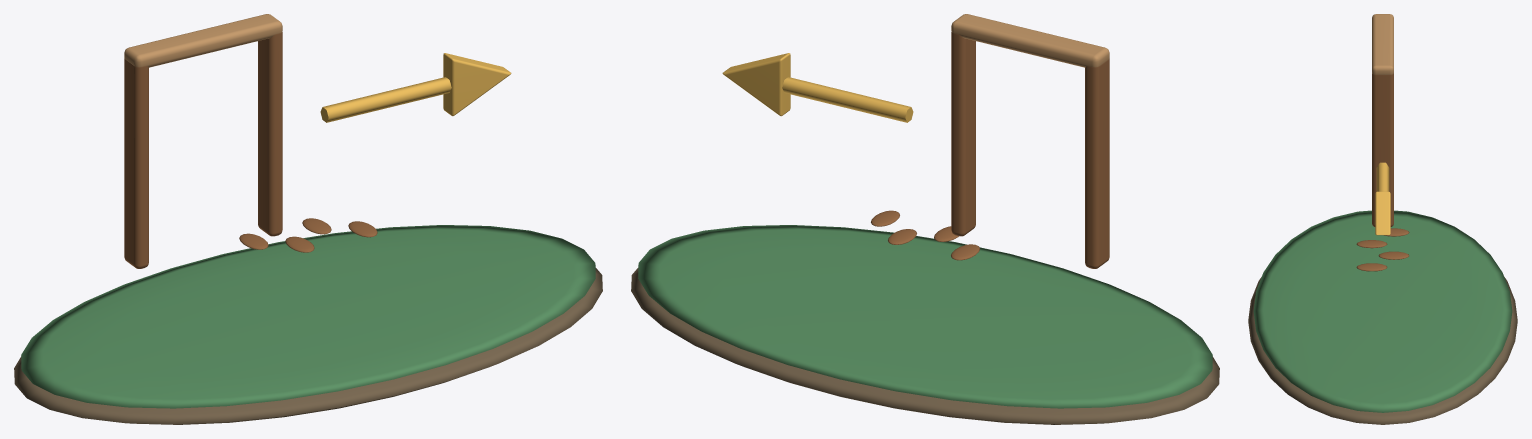
Rendered from complete-second-pass-through.glb.
The picture shows the model from 3 angles, left to right: view 1: azimuth 30°, elevation 25°; view 2: azimuth 150°, elevation 25°; view 3: azimuth 270°, elevation 25°; orthographic projection. The views are drawn at different scales.
Visible parts, largest first — view 1: complete-second-pass-through_surface_01, complete-second-pass-through_surface_02, complete-second-pass-through_surface_00, complete-second-pass-through_surface_04, complete-second-pass-through_surface_03; view 2: complete-second-pass-through_surface_01, complete-second-pass-through_surface_02, complete-second-pass-through_surface_00, complete-second-pass-through_surface_04, complete-second-pass-through_surface_03; view 3: complete-second-pass-through_surface_01, complete-second-pass-through_surface_00, complete-second-pass-through_surface_02, complete-second-pass-through_surface_03, complete-second-pass-through_surface_04.
Boxes of the visible parts, x1,y1,x2,y2 form: complete-second-pass-through_surface_01: (21,225,595,408); complete-second-pass-through_surface_02: (124,31,377,268); complete-second-pass-through_surface_00: (14,268,602,424); complete-second-pass-through_surface_04: (320,53,511,122); complete-second-pass-through_surface_03: (124,14,282,67); complete-second-pass-through_surface_01: (638,225,1212,408); complete-second-pass-through_surface_02: (871,31,1109,268); complete-second-pass-through_surface_00: (631,268,1219,424); complete-second-pass-through_surface_04: (722,53,913,122); complete-second-pass-through_surface_03: (951,14,1109,67); complete-second-pass-through_surface_01: (1253,210,1512,412); complete-second-pass-through_surface_00: (1248,277,1517,424); complete-second-pass-through_surface_02: (1356,73,1409,271); complete-second-pass-through_surface_03: (1372,14,1393,74); complete-second-pass-through_surface_04: (1375,162,1390,235).
Size of the model in its own units: 4.56 by 2.61 by 2.5.
